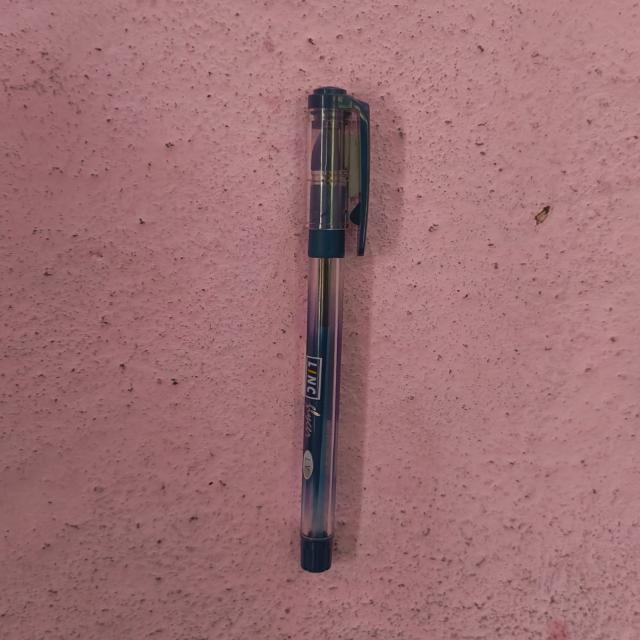blessing_card: (284, 79, 377, 587)
